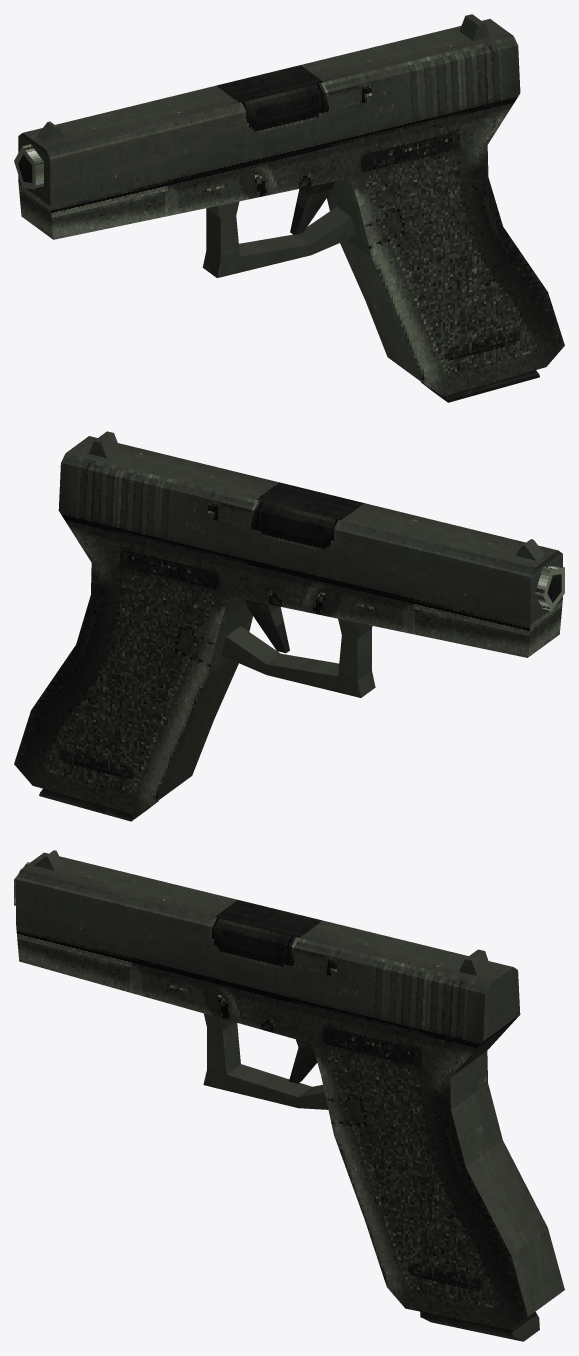
The model's file is Pistol.glb.
3 renders of one model, top to bottom at view 1: azimuth 30°, elevation 25°; view 2: azimuth 150°, elevation 25°; view 3: azimuth 330°, elevation 25°, orthographic.
Parts seen in each view (by area): view 1: Pistol; view 2: Pistol; view 3: Pistol.
Part boxes in pixels (<box>): Pistol: <box>14,14,564,402</box>; Pistol: <box>14,431,564,821</box>; Pistol: <box>14,850,564,1341</box>.
Bounding box in the file's own units: 0.1675 × 0.1133 × 0.0206.
1 material, 1 textured.
